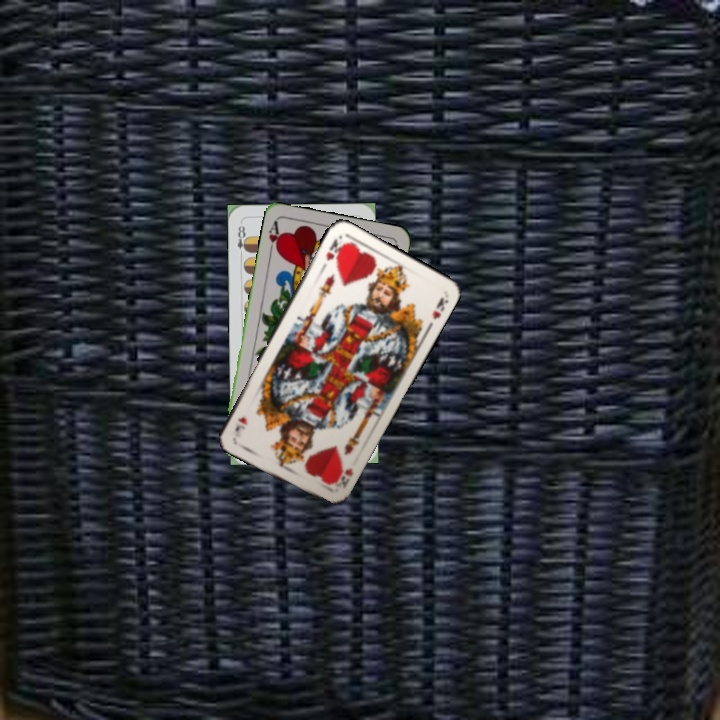E8: (233, 221, 250, 260)
HA: (264, 217, 284, 258)
HK: (317, 234, 347, 272), (329, 460, 356, 491)
